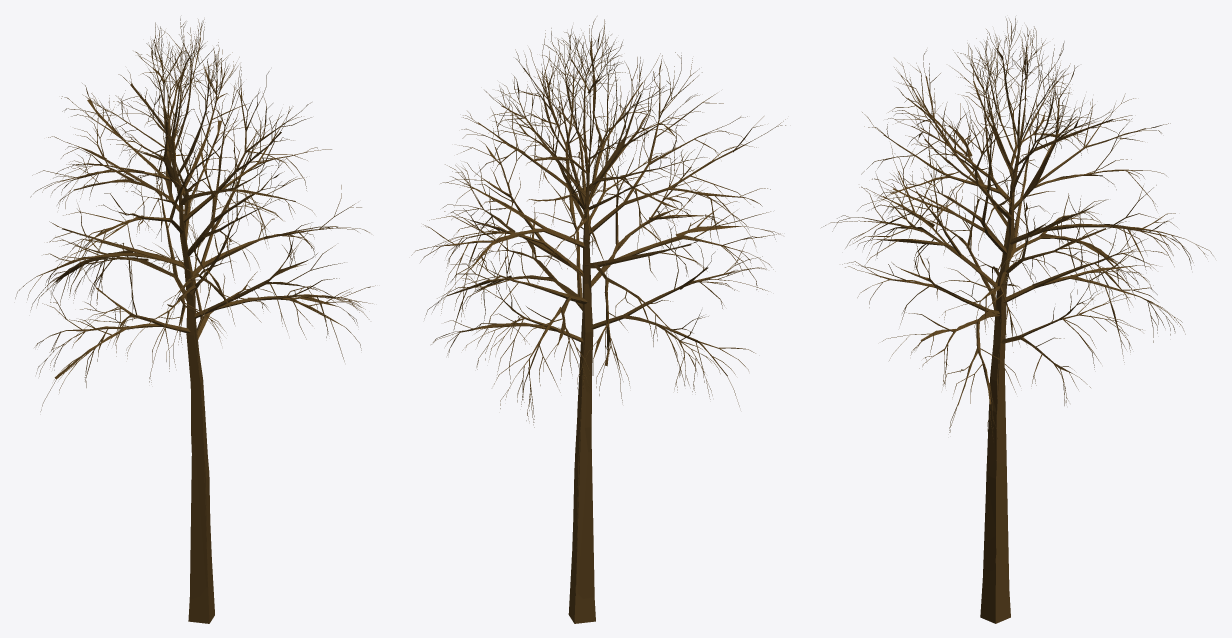
Rendered from dryTreeL.fbx.
The picture shows the model from 3 angles, left to right: view 1: azimuth 30°, elevation 25°; view 2: azimuth 150°, elevation 25°; view 3: azimuth 270°, elevation 25°; orthographic projection. The views are drawn at different scales.
Parts seen in each view (by area): view 1: dryTreeL, dryTreeL2, dryTreeL1; view 2: dryTreeL, dryTreeL2, dryTreeL1; view 3: dryTreeL, dryTreeL1, dryTreeL2.
Part boxes in pixels (box(x1,y1,x2,y2)): dryTreeL: box(15, 18, 375, 623); dryTreeL2: box(39, 37, 343, 599); dryTreeL1: box(37, 24, 366, 623); dryTreeL: box(411, 18, 785, 623); dryTreeL2: box(435, 34, 752, 600); dryTreeL1: box(415, 22, 776, 623); dryTreeL: box(821, 18, 1213, 623); dryTreeL1: box(834, 20, 1208, 623); dryTreeL2: box(871, 48, 1167, 585).
Size of the model in its own units: 280 by 502 by 306.
